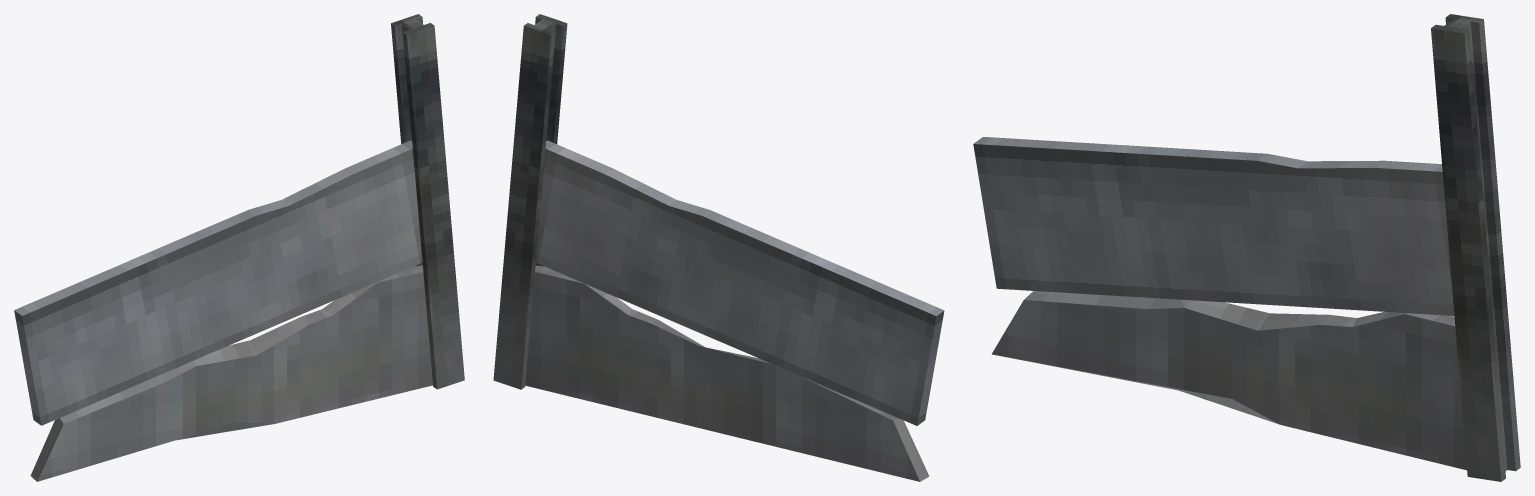
File: plackard_broken_slanted.glb
3 renders of one model, left to right at view 1: azimuth 30°, elevation 25°; view 2: azimuth 150°, elevation 25°; view 3: azimuth 330°, elevation 25°, orthographic. The views are drawn at different scales.
Visible parts, largest first — view 1: plackard_broken_slanted; view 2: plackard_broken_slanted; view 3: plackard_broken_slanted.
Part boxes in pixels (x1,y1,x2,y2): plackard_broken_slanted: (14, 14, 464, 481); plackard_broken_slanted: (493, 14, 944, 481); plackard_broken_slanted: (973, 14, 1520, 481).
Size of the model in its own units: 3.16 by 2.51 by 0.2.
1 material, 1 textured.
